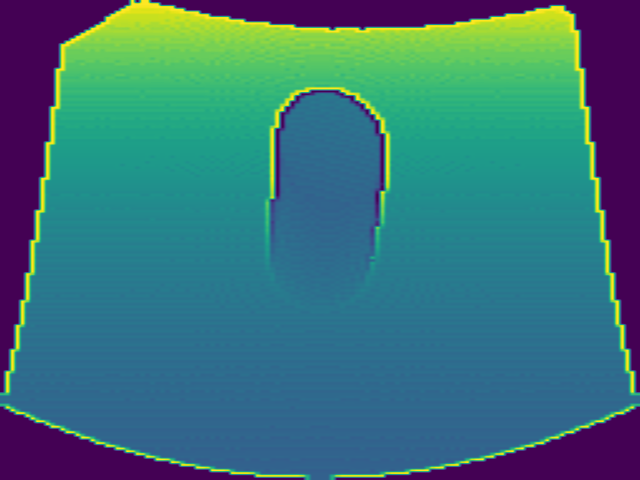cylinder: (263, 87, 392, 308)
